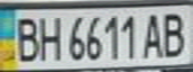1: (118, 11, 142, 60), (103, 11, 121, 61)
6: (63, 12, 87, 61), (84, 11, 106, 61)
A: (139, 10, 169, 60)
B: (157, 8, 190, 59), (9, 12, 42, 63)
H: (33, 12, 63, 62)
